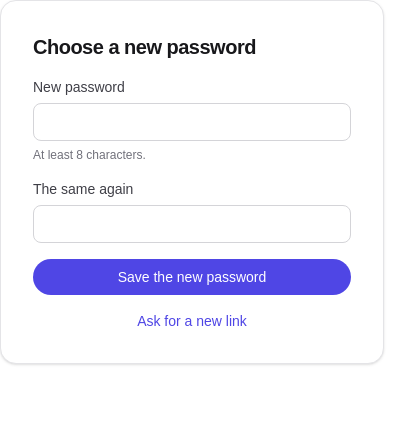
Test: choosing a new password with the link › asks again when the two passwords differ, and sends nothing
This screenshot has width=401, height=434.
Type "a new long password" into the password field labelled "New password" at (192, 122), box [33,103,351,141]
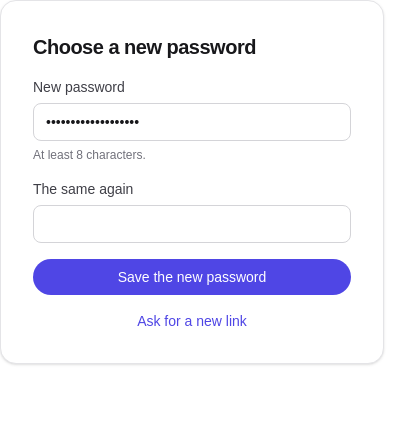
Type "a new long passwort" into the password field labelled "The same again" at (192, 224), box [33,205,351,243]
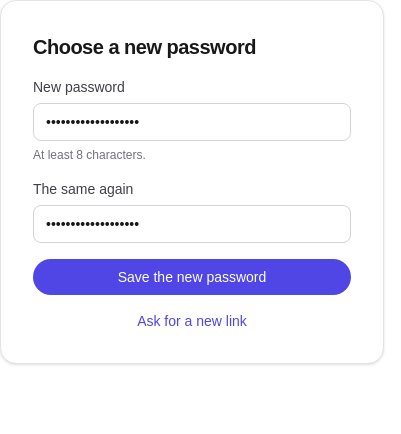
Click the button "Save the new password" at (192, 277), box [33,259,351,295]
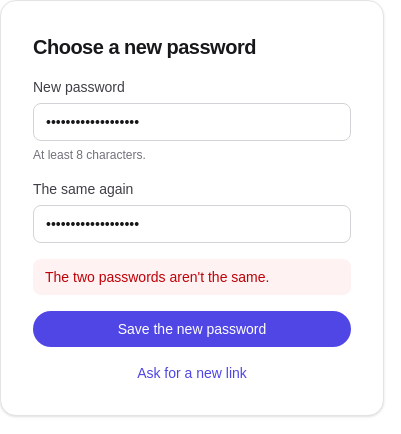
Result: the message reads "The two passwords aren't the same." at [45,269,270,285]
